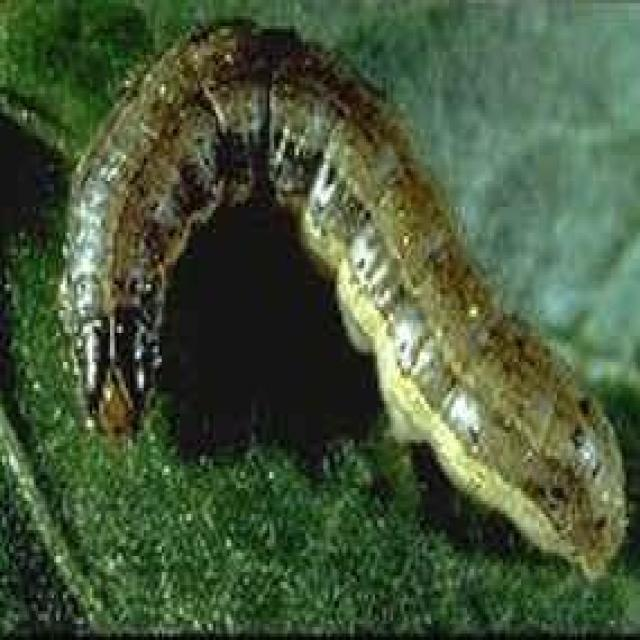BeetArmyWorm-Larva-: (49, 15, 629, 589)
